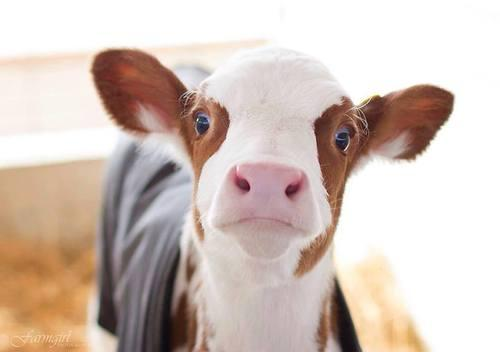muzzles: (205, 155, 334, 262)
